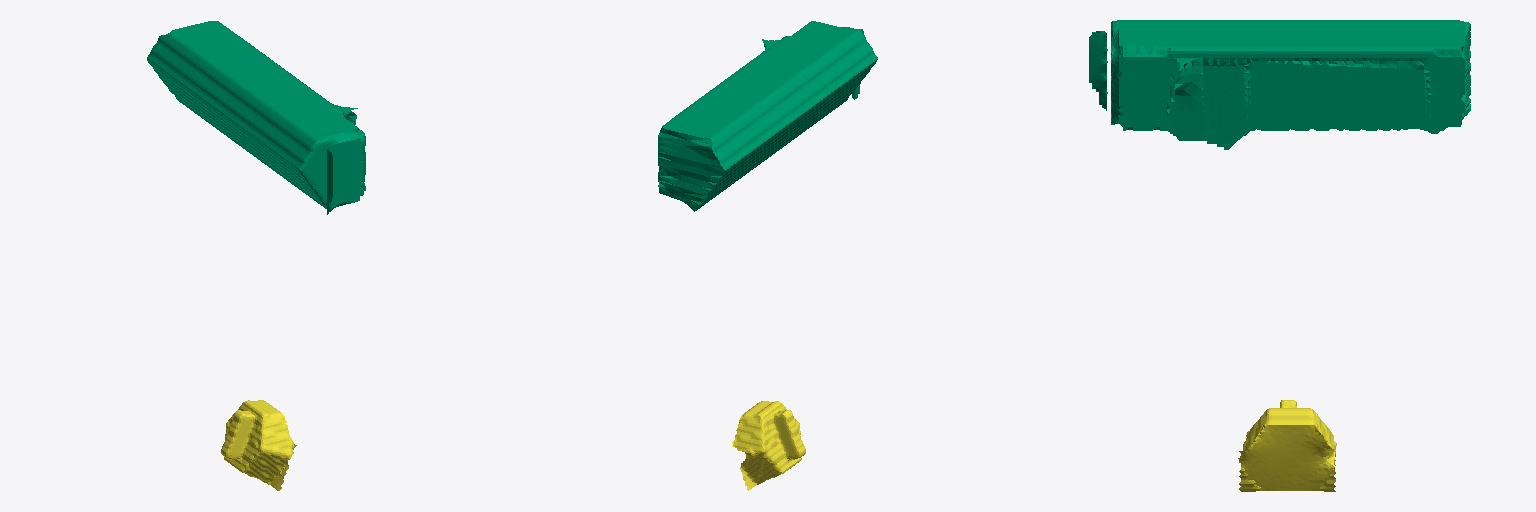
robot.urdf — object:
<?xml version='1.0' encoding='utf-8'?>
<robot name="object">
  <link name="base">
    <inertial>
      <origin xyz="0 0 0" rpy="0 0 0" />
      <mass value="0.0" />
      <inertia ixx="0" ixy="0" ixz="0" iyy="0" iyz="0" izz="0" />
    </inertial>
  </link>
  <link name="link_1">
    <visual>
      <origin xyz="0 0 0" rpy="0 0 0" />
      <geometry>
        <mesh filename="meshes/link_1.stl" />
      </geometry>
    </visual>
    <collision>
      <origin xyz="0 0 0" rpy="0 0 0" />
      <geometry>
        <mesh filename="meshes/link_1.stl" />
      </geometry>
    </collision>
    <inertial>
      <origin xyz="0.00169445978 -0.0112241041 -0.068890305" rpy="0 0 0" />
      <mass value="1294.56298" />
      <inertia ixx="258.563459" ixy="1.31062986" ixz="-5.2905513" iyy="395.455315" iyz="-0.0729111584" izz="360.329684" />
    </inertial>
  </link>
  <link name="link_2">
    <visual>
      <origin xyz="0.719563943 -0.155913512 -0.437584702" rpy="0 0 0" />
      <geometry>
        <mesh filename="meshes/link_2.stl" />
      </geometry>
    </visual>
    <collision>
      <origin xyz="0.719563943 -0.155913512 -0.437584702" rpy="0 0 0" />
      <geometry>
        <mesh filename="meshes/link_2.stl" />
      </geometry>
    </collision>
    <inertial>
      <origin xyz="0.0704795247 -0.162205544 -0.0665426472" rpy="0 0 0" />
      <mass value="11.0536153" />
      <inertia ixx="0.203823688" ixy="-0.00126023368" ixz="0.00199441195" iyy="0.0236393835" iyz="-0.000823979689" izz="0.201934816" />
    </inertial>
  </link>
  <link name="link_3">
    <visual>
      <origin xyz="0.739986182 0.00422029651 0.158946904" rpy="0 0 0" />
      <geometry>
        <mesh filename="meshes/link_3.stl" />
      </geometry>
    </visual>
    <collision>
      <origin xyz="0.739986182 0.00422029651 0.158946904" rpy="0 0 0" />
      <geometry>
        <mesh filename="meshes/link_3.stl" />
      </geometry>
    </collision>
    <inertial>
      <origin xyz="-0.0229341381 -0.00453487749 0.0152279451" rpy="0 0 0" />
      <mass value="0.708380347" />
      <inertia ixx="0.00130581941" ixy="1.32764658e-05" ixz="-0.00010966561" iyy="0.000913599756" iyz="-1.53945848e-06" izz="0.000932893571" />
    </inertial>
  </link>
  <joint name="joint_1_2" type="prismatic">
    <parent link="link_1" />
    <child link="link_2" />
    <origin xyz="-0.719563943 0.155913512 0.437584702" rpy="0 0 0" />
    <axis xyz="-0.00704513165 0.00555532432 -0.999959751" />
    <limit lower="-1.57" upper="1.57" effort="10.0" velocity="1.0" />
  </joint>
  <joint name="joint_1_3" type="revolute">
    <parent link="link_1" />
    <child link="link_3" />
    <origin xyz="-0.739986182 -0.00422029651 -0.158946904" rpy="0 0 0" />
    <axis xyz="0.934996097 0.00863161866 -0.35455295" />
    <limit lower="-1.57" upper="1.57" effort="10.0" velocity="1.0" />
  </joint>
  <joint name="base_to_1" type="fixed">
    <parent link="base" />
    <child link="link_1" />
    <origin xyz="0 0 0" rpy="0 0 0" />
  </joint>
</robot>

--- What the picture shows (computed from the rendered views, not written in the file) ---
3 views of the same robot in one strip: view 1: azimuth 30°, elevation 25°; view 2: azimuth 150°, elevation 25°; view 3: azimuth 270°, elevation 25° (orthographic).
Robot: object — 4 links, 3 joints (1 revolute, 1 prismatic, 1 fixed); root link base; default pose: all joints at 0.
Visible links, largest first — view 1: link_2, link_3; view 2: link_2, link_3; view 3: link_2, link_3.
Link boxes in pixels (box(x1,y1,x2,y2)): link_2: box(147, 21, 365, 214); link_3: box(221, 400, 296, 490); link_2: box(658, 21, 877, 211); link_3: box(732, 401, 805, 490); link_2: box(1089, 20, 1470, 149); link_3: box(1238, 400, 1336, 491).
Size in the robot's own frame: 0.1774 by 0.5649 by 0.7536 metres.
2 mesh visuals loaded from 3 distinct referenced files (2 binary STL); not drawn: 1 (reference not matched to a file when rendering).
